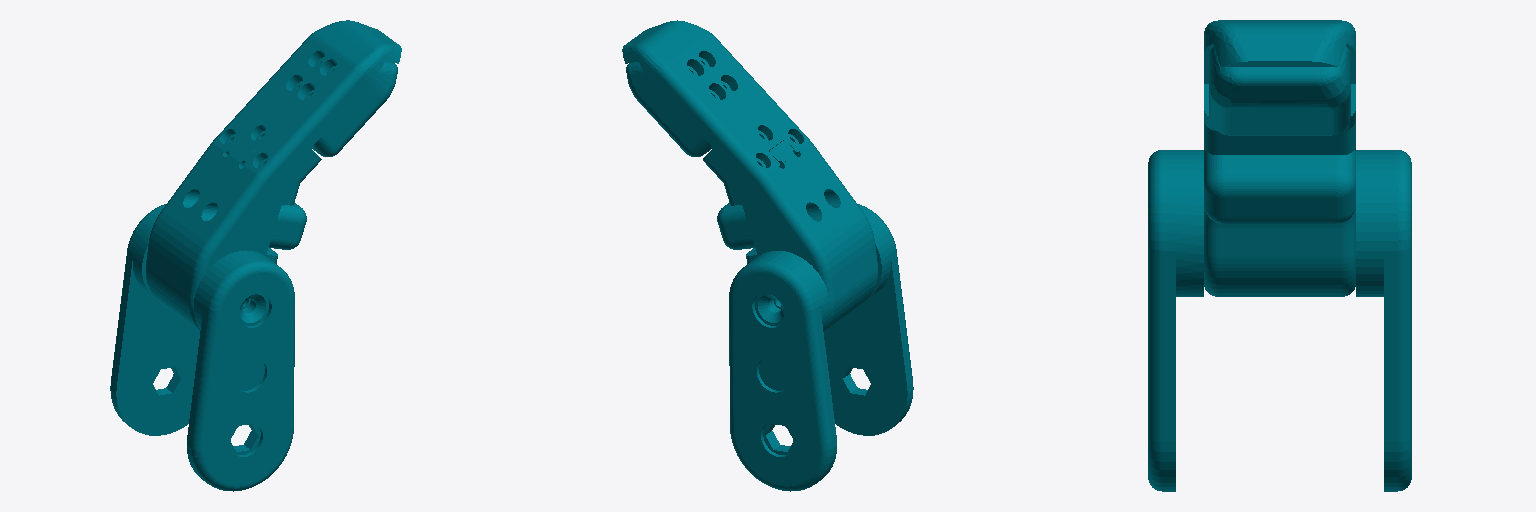
URDF robot description (umi3_camera_hard_finger):
<?xml version="1.0"?>
<robot name="umi3_camera_hard_finger">
  <material name="body_dark"><color rgba="0.16 0.18 0.21 1.0"/></material>
  <material name="finger_hard"><color rgba="0.03 0.52 0.58 1.0"/></material>
  <link name="base_link">
    <inertial>
      <origin xyz="0 0 0.09" rpy="0 0 0"/>
      <mass value="1.0"/>
      <inertia ixx="0.003" ixy="0" ixz="0" iyy="0.003" iyz="0" izz="0.001"/>
    </inertial>
    <visual>
      <geometry><mesh filename="meshes/base_link.stl" scale="0.001 0.001 0.001"/></geometry>
      <material name="body_dark"/>
    </visual>
  </link>
  <link name="index_finger_link">
    <inertial>
      <origin xyz="-0.03 0 0.02" rpy="0 0 0"/>
      <mass value="0.12"/>
      <inertia ixx="0.00006" ixy="0" ixz="0" iyy="0.00010" iyz="0" izz="0.00008"/>
    </inertial>
    <visual>
      <geometry><mesh filename="meshes/index_link.stl" scale="0.001 0.001 0.001"/></geometry>
      <material name="finger_hard"/>
    </visual>
  </link>
  <joint name="gripper_joint" type="revolute">
    <origin xyz="-0.021210000 0 0.130500000" rpy="0 1.321776437036 0"/>
    <parent link="base_link"/>
    <child link="index_finger_link"/>
    <axis xyz="0 -1 0"/>
    <limit lower="0.0" upper="1.570796326795" effort="100.0" velocity="1.5"/>
    <dynamics damping="0.05" friction="0.02"/>
  </joint>
</robot>

--- Render facts (derived) ---
Views: 3 orthographic renders of the robot side by side, from view 1: azimuth 30°, elevation 25°; view 2: azimuth 150°, elevation 25°; view 3: azimuth 270°, elevation 25°.
Model umi3_camera_hard_finger with 2 links and 1 joints (1 revolute), rooted at base_link, posed all joints at 0.
Visible links, largest first — view 1: index_finger_link; view 2: index_finger_link; view 3: index_finger_link.
Boxes of the visible links, x1,y1,x2,y2 form: index_finger_link: [110, 20, 401, 491]; index_finger_link: [622, 20, 913, 491]; index_finger_link: [1148, 20, 1411, 491].
Size in the robot's own frame: 0.0586 by 0.038 by 0.0912 metres.
1 mesh visuals loaded from 2 distinct referenced files (1 binary STL); not drawn: 1 (reference not matched to a file when rendering).
